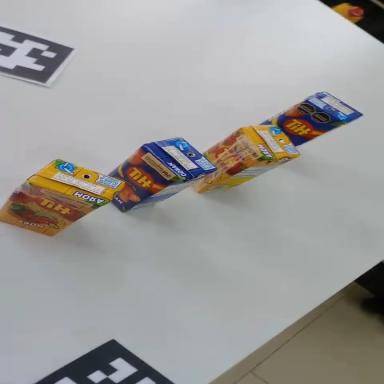HIT-MANGO: (95, 119, 217, 225), (259, 80, 362, 156)
HIT-MORA: (0, 136, 129, 255), (178, 110, 301, 203)
cara_F: (0, 175, 102, 250), (95, 138, 181, 215), (258, 89, 347, 157), (179, 125, 263, 193)
